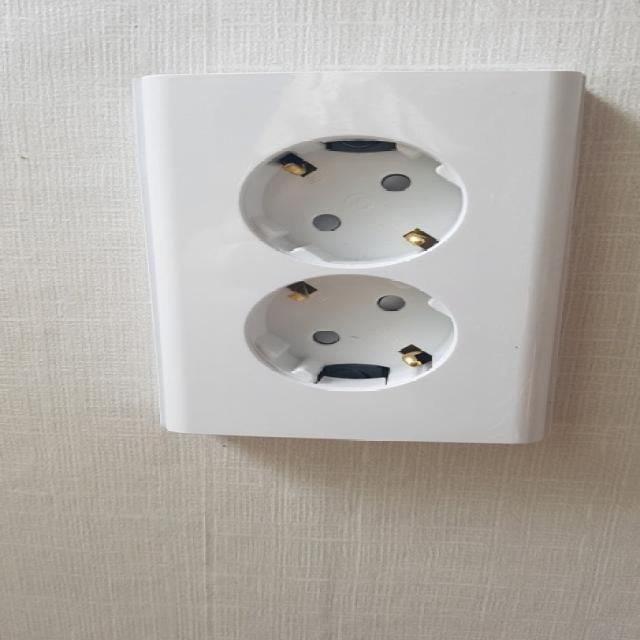typeb: (96, 32, 640, 504)
